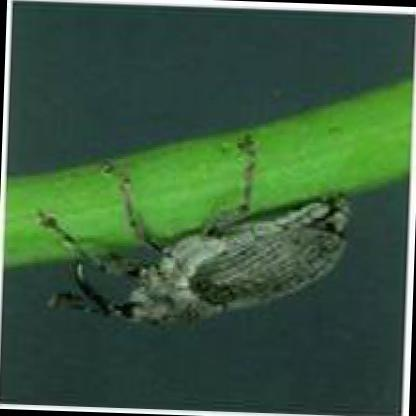ash weevil: (37, 147, 353, 333)
